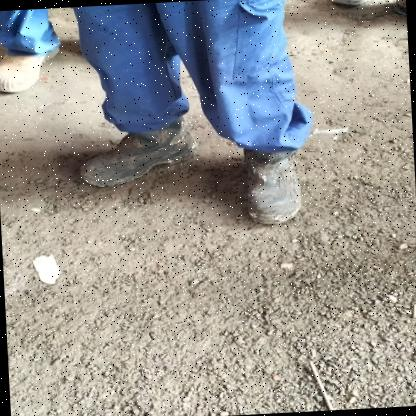bota: (74, 116, 202, 188), (234, 138, 308, 228)
